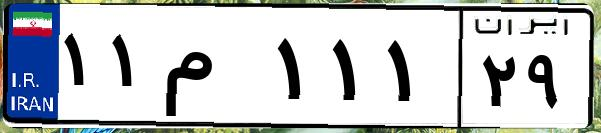1: (270, 28, 330, 110), (385, 28, 445, 110), (330, 28, 385, 110), (57, 26, 110, 100), (110, 28, 158, 98)
2: (475, 38, 525, 113)
9: (525, 38, 570, 115)
م: (158, 20, 270, 120)
